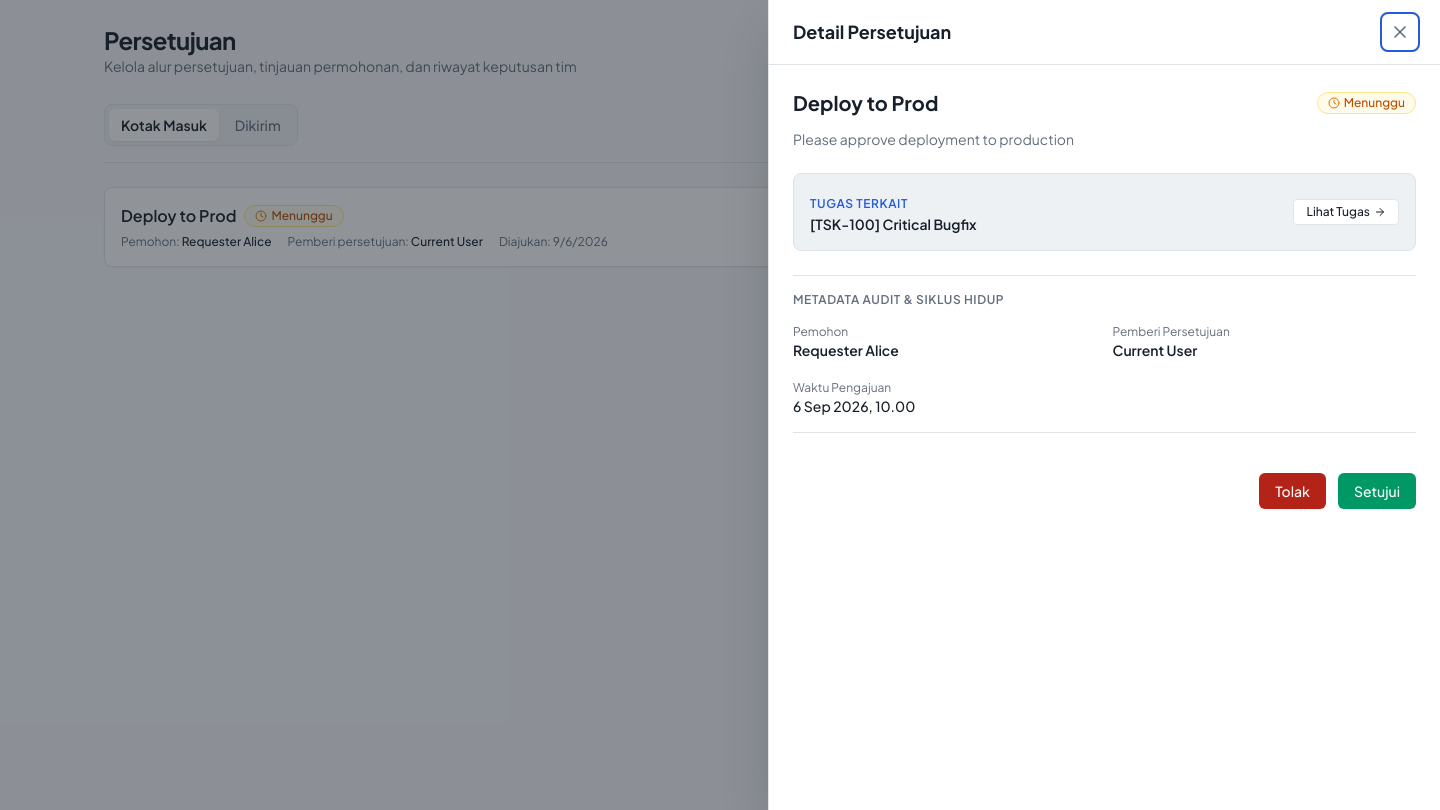
Test: Phase 10 Task 8 — Approval Detail, Create, Approve/Reject/Cancel UX › handles 409 APPROVAL_NOT_PENDING conflict by displaying conflict banner and refetching latest state
Click the button with aria-label "Approve": (1377,491) [1338,473,1416,509]
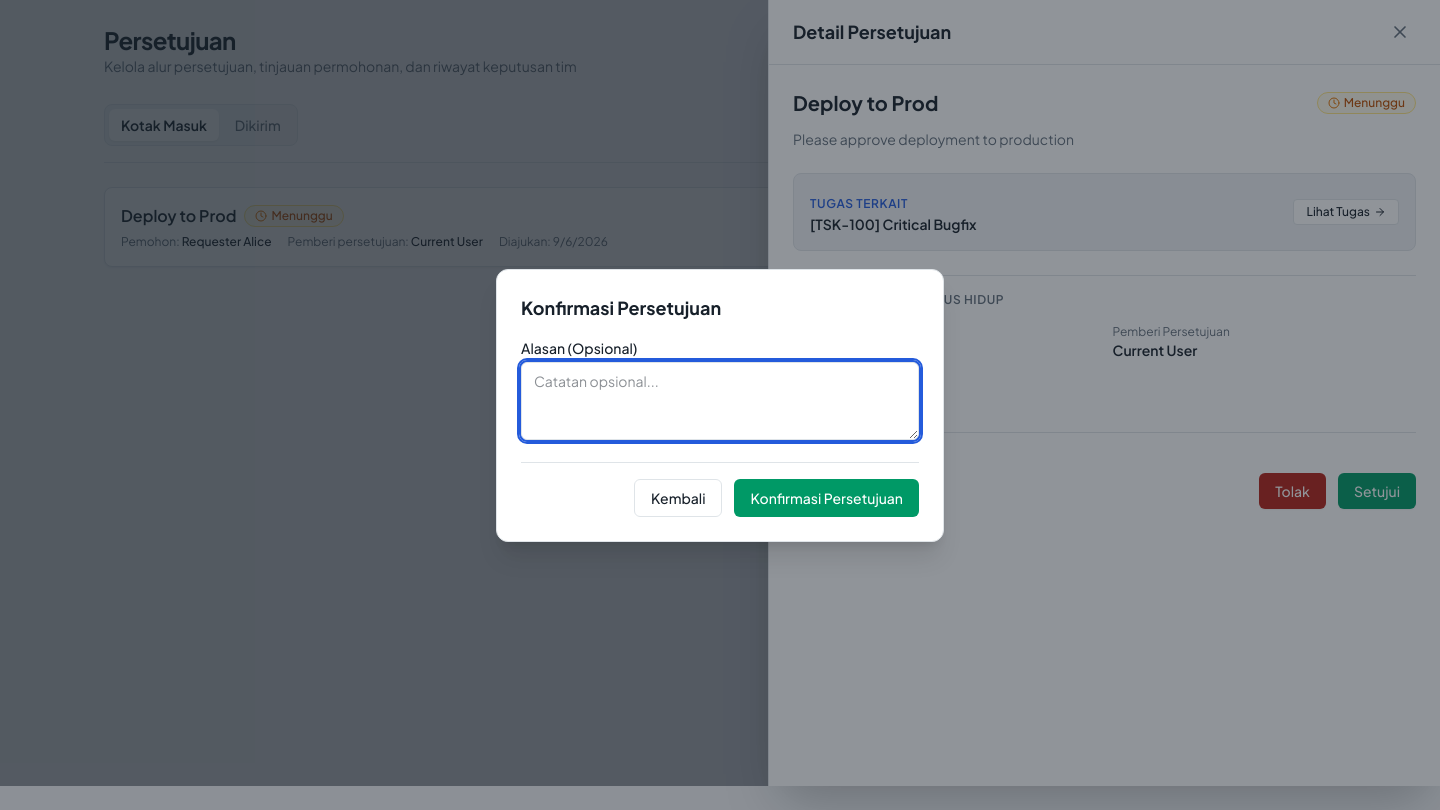
Click the button with aria-label "Confirm Approval": (827,498) [734,478,919,516]
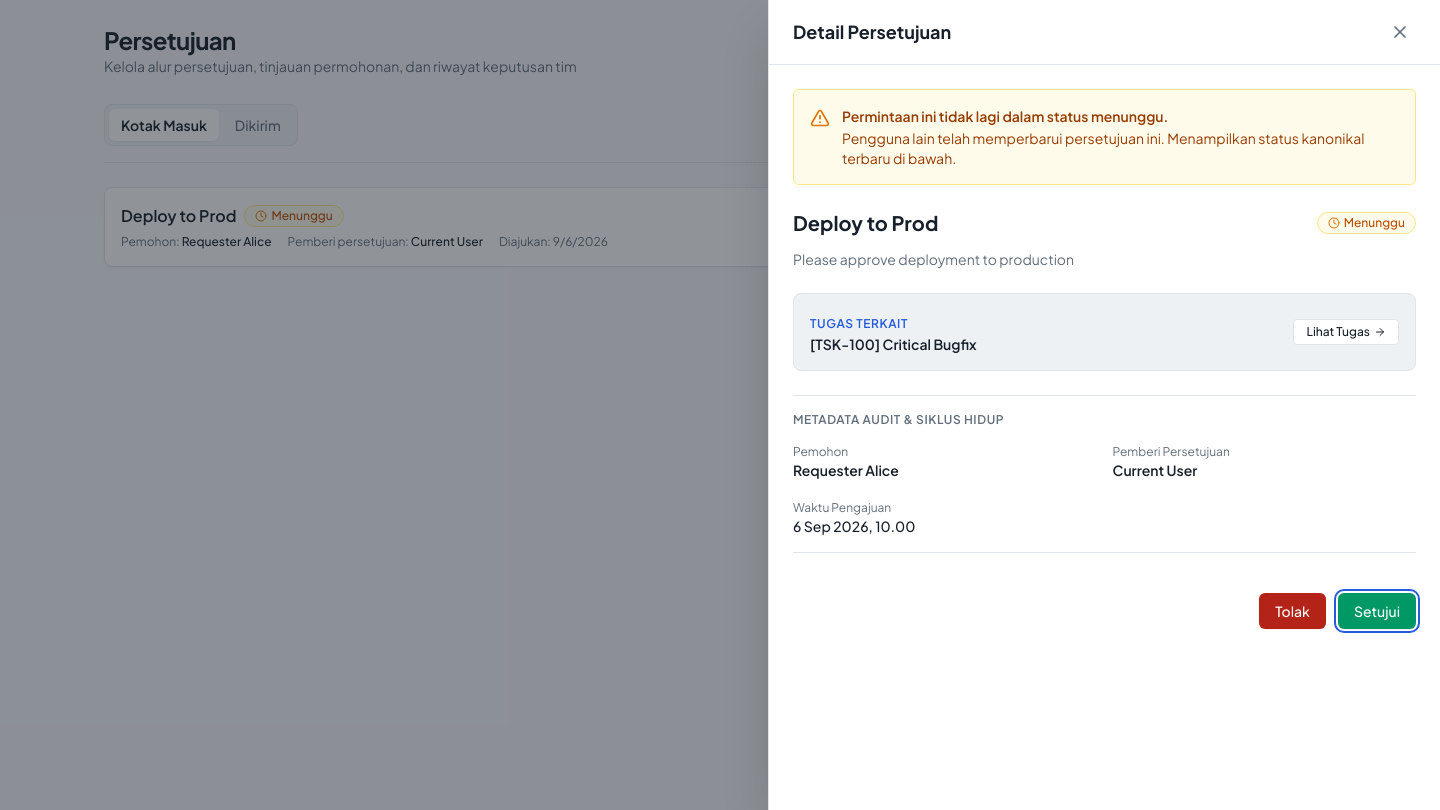
Check: the text "Permintaan ini tidak lagi dalam status menunggu." is shown, box [842,107,1168,125]
